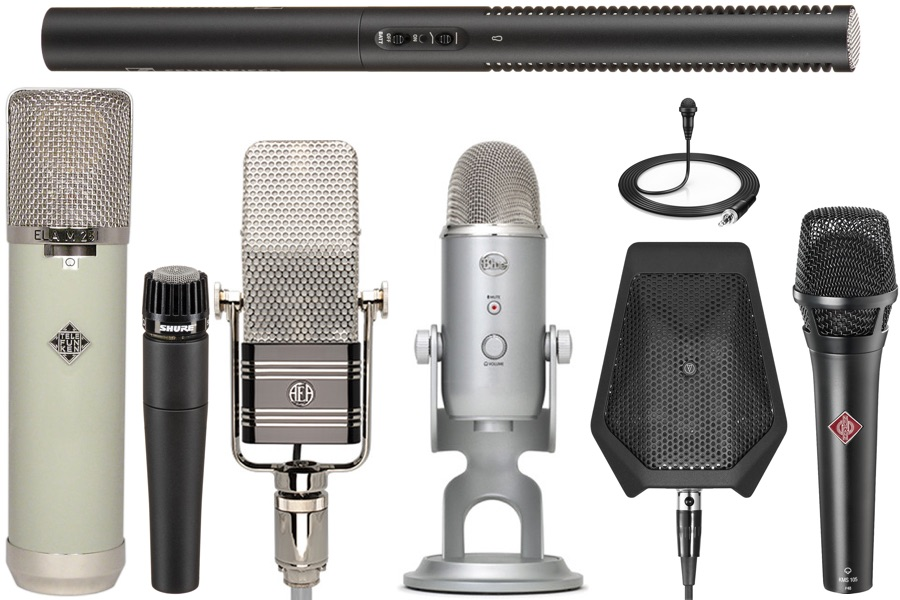microphone: (402, 138, 586, 599), (212, 137, 391, 600), (589, 240, 789, 600), (5, 85, 135, 598), (40, 5, 862, 77), (791, 205, 900, 595), (140, 264, 211, 596), (615, 96, 763, 228)
